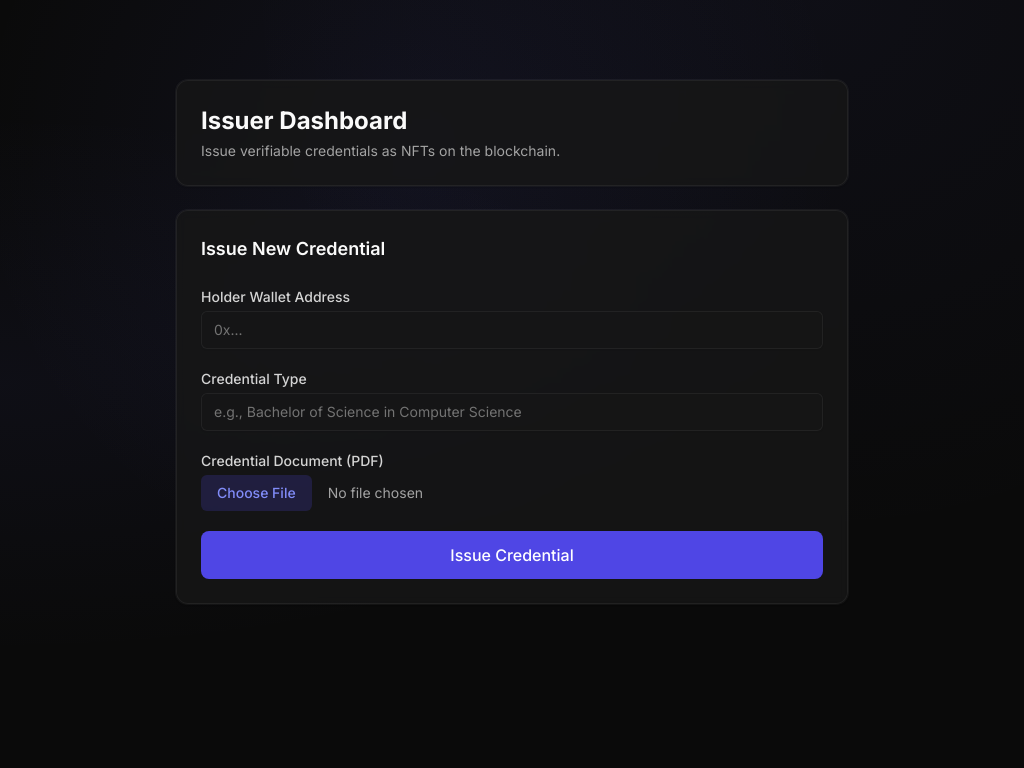
Test case: IssuerDashboardPage › shows error for invalid holder address format
The width and height of the screenshot is (1024, 768).
Step 1. Type "not-an-address" into the field labelled "Holder Wallet Address" → coordinates (512, 330), box [201,311,823,349]
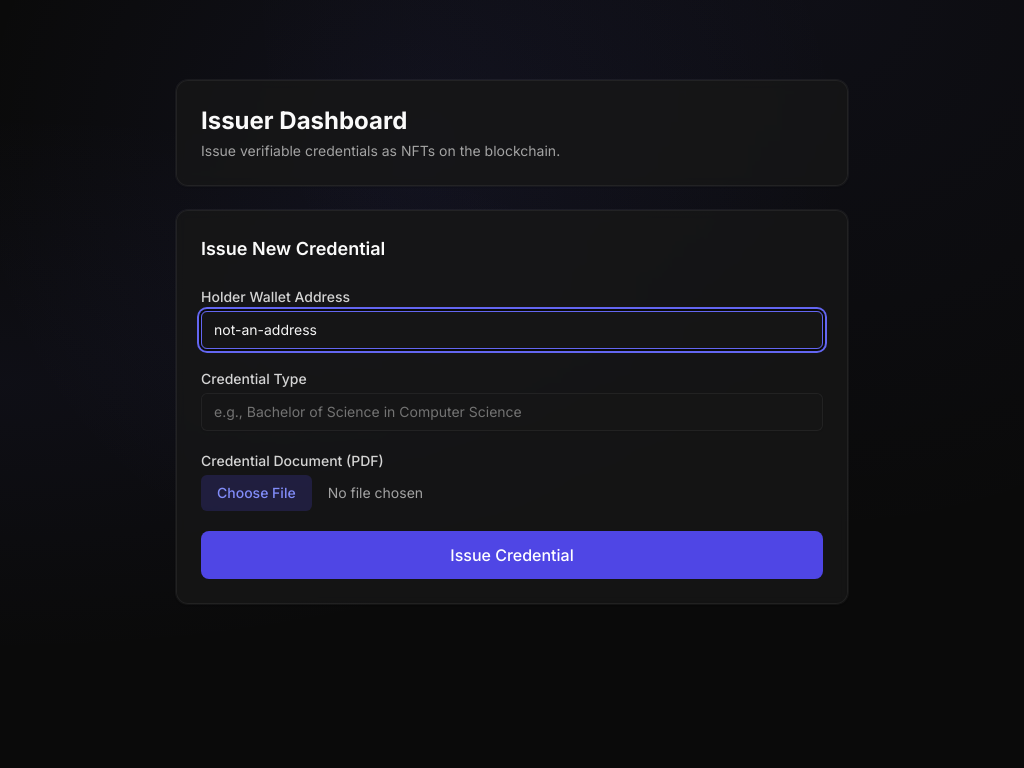
Step 2. Click the button "Issue Credential" → coordinates (512, 555), box [201,531,823,579]
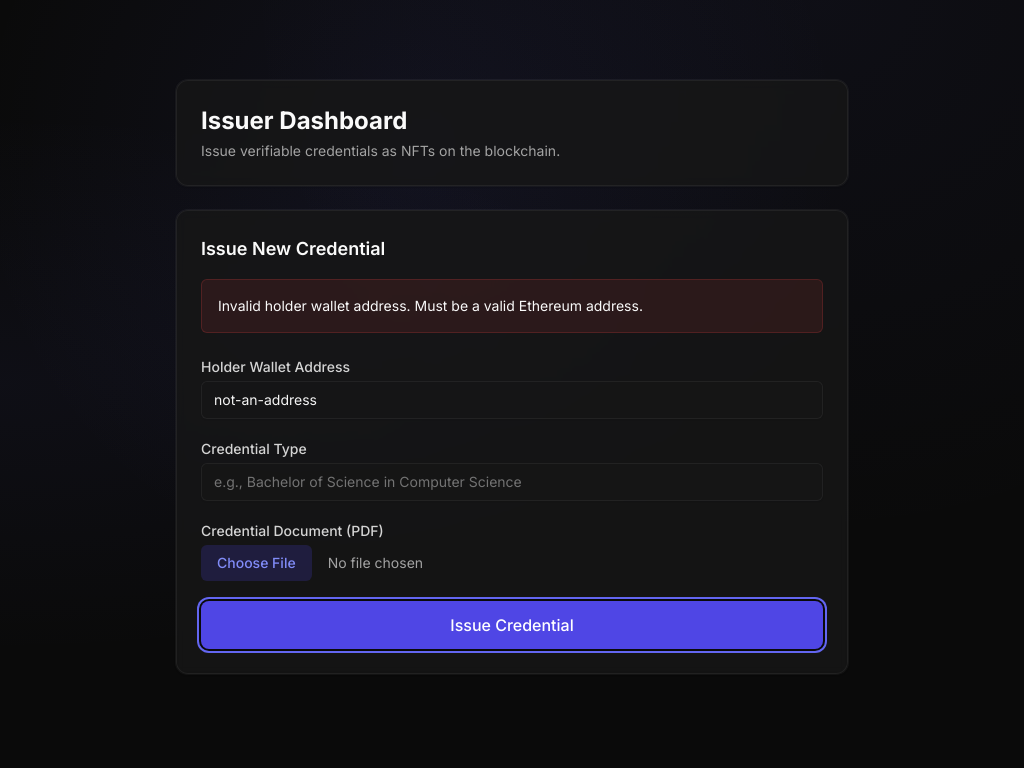
Expected: the message reads "Invalid holder wallet address. Must be a valid Ethereum address.", [218,297,643,314]
